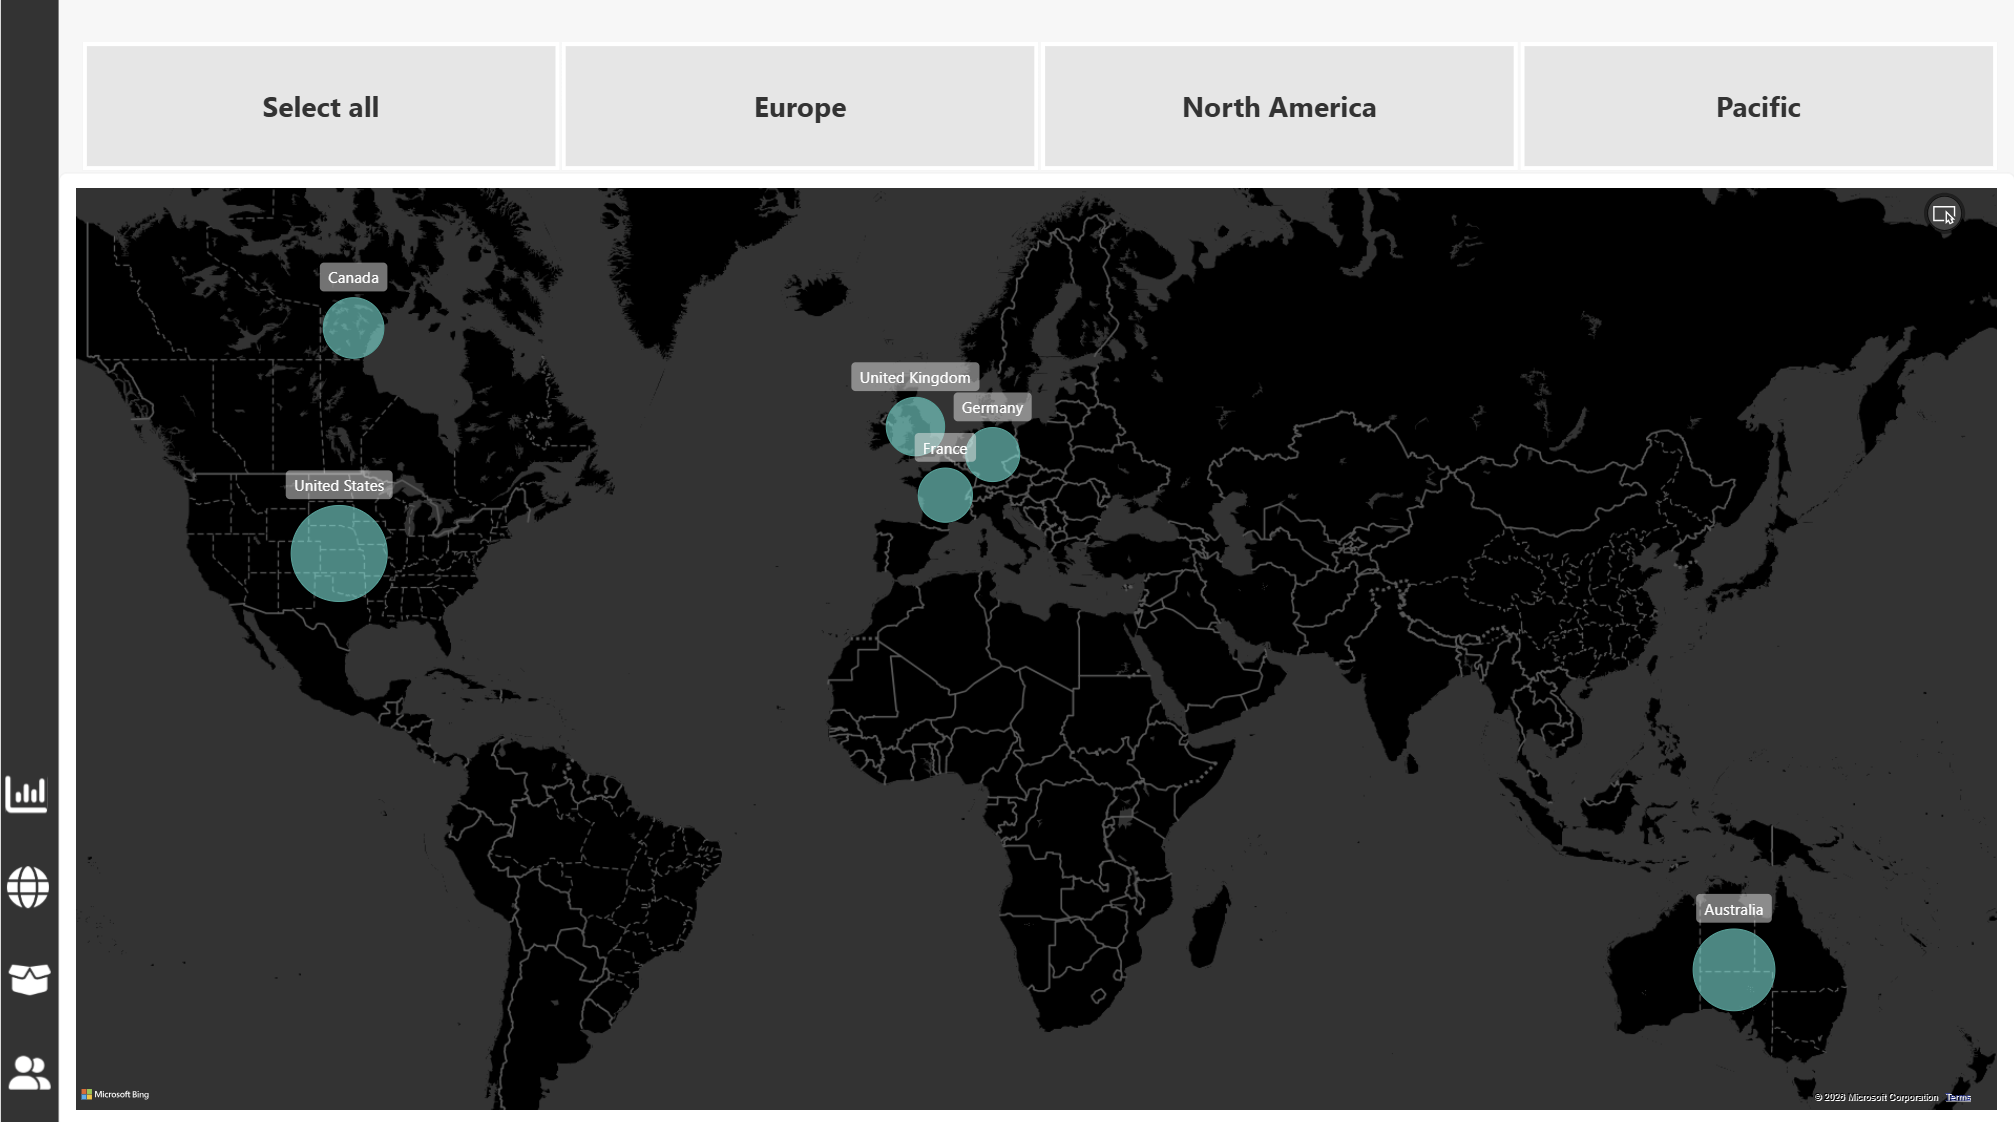

The page's visual inventory and layout, read from the dashboard file:
{"tool":"powerbi","page":{"name":"Map","canvas":[1920,1080],"ordinal":1},"visuals":[{"type":"map","fields":{"Category":["Territory Lookup.Country"],"Size":["Measure Table.Total Orders"]},"box":[55.3,170,1863.4,909.8],"z":0},{"type":"actionButton","box":[0,718.3,73.3,88.3],"z":0,"group":"g1"},{"type":"shape","title":"Left Nav Background","box":[0,0,55,1080],"z":1000},{"type":"actionButton","box":[3.3,895,73.3,88.3],"z":1000,"group":"g1"},{"type":"slicer","fields":{"Values":["Territory Lookup.Continent"]},"box":[56.7,43.3,1863.3,126.7],"z":2000},{"type":"actionButton","box":[1.7,806.6,73.3,88.3],"z":2000,"group":"g1"},{"type":"group","id":"g1","title":"Navigation Buttons","box":[0,718.3,76.7,353.3],"z":3000},{"type":"actionButton","box":[3.3,983.3,73.3,88.3],"z":3000,"group":"g1"}]}

Visuals, with their boxes on the page's 1920x1080 design canvas (x1, y1, x2, y2). These are canvas units, not pixel positions in the 2014x1122 screenshot, which may show the page scaled, cropped or inside an application window:
map - Territory Lookup.Country x Measure Table.Total Orders: x1=55 y1=170 x2=1919 y2=1080
actionButton: x1=0 y1=718 x2=73 y2=807
"Left Nav Background" shape: x1=0 y1=0 x2=55 y2=1080
actionButton: x1=3 y1=895 x2=77 y2=983
slicer - Territory Lookup.Continent: x1=57 y1=43 x2=1920 y2=170
actionButton: x1=2 y1=807 x2=75 y2=895
"Navigation Buttons" group: x1=0 y1=718 x2=77 y2=1072
actionButton: x1=3 y1=983 x2=77 y2=1072
